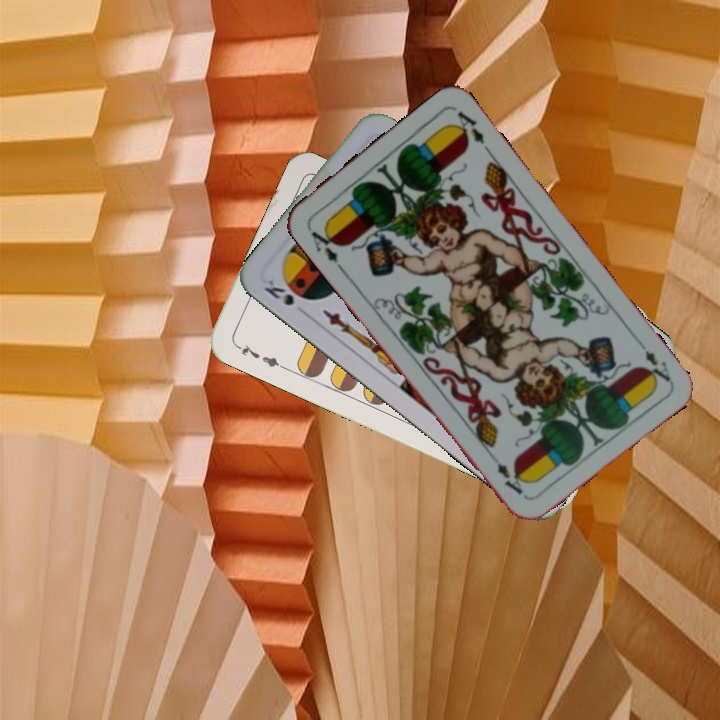E7: (231, 340, 287, 372)
EA: (631, 335, 673, 386), (304, 222, 342, 266)
SK: (259, 272, 310, 319)
